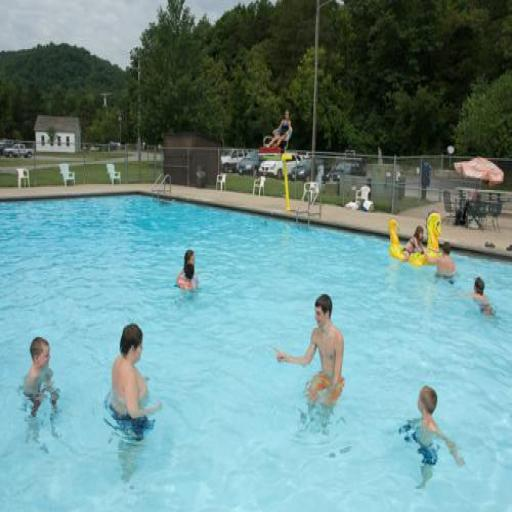swimming: (274, 292, 347, 436), (396, 383, 467, 492), (103, 320, 164, 444), (18, 334, 62, 428), (419, 238, 458, 285), (466, 273, 497, 322), (173, 245, 200, 296), (399, 222, 428, 264)
